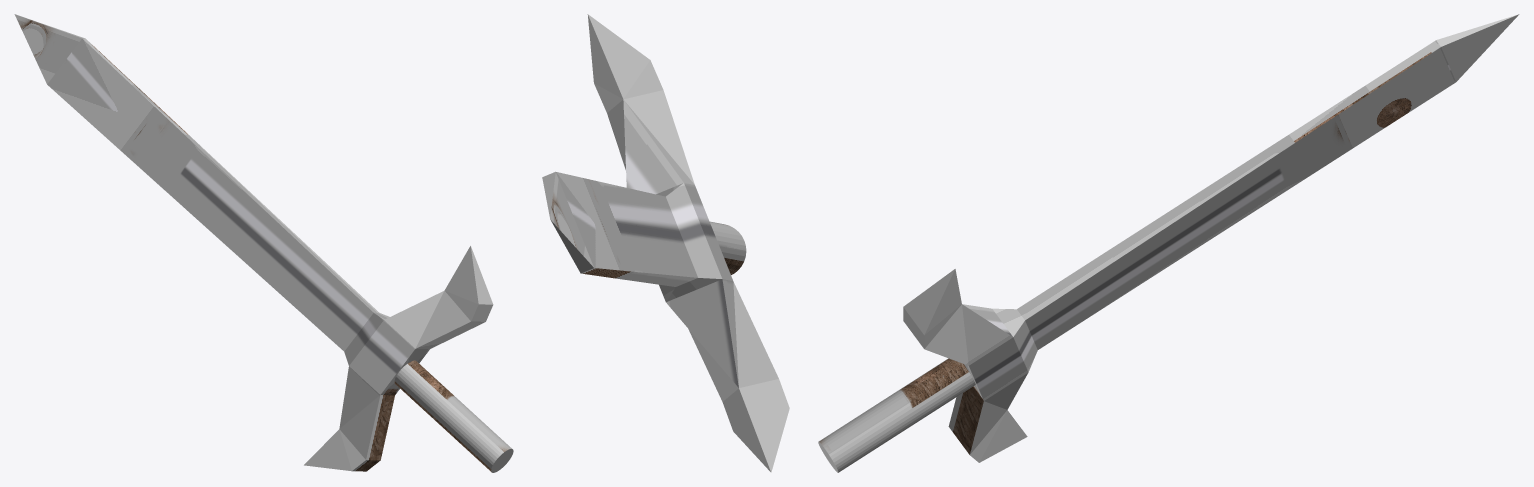
The model's file is Protagonista126.obj.
The picture shows the model from 3 angles, left to right: view 1: azimuth 30°, elevation 25°; view 2: azimuth 150°, elevation 25°; view 3: azimuth 270°, elevation 25°; orthographic projection. The views are drawn at different scales.
Visible parts, largest first — view 1: Cube; view 2: Cube; view 3: Cube.
Boxes of the visible parts, bbox=[...] form: Cube: bbox=[14, 14, 513, 472]; Cube: bbox=[542, 14, 789, 472]; Cube: bbox=[818, 14, 1519, 472].
Bounding box in the file's own units: 0.6549 × 0.883 × 1.49.
Materials: 1 (1 with a texture image).
